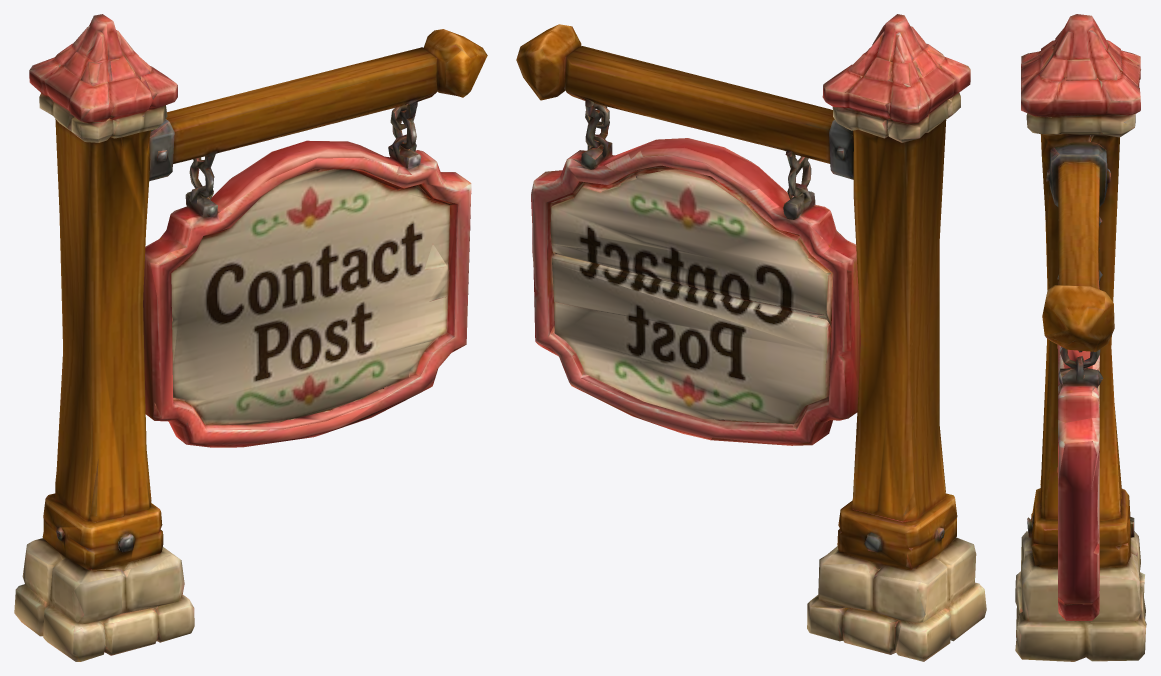
The model's file is sign-contact.glb.
3 renders of one model, left to right at view 1: azimuth 30°, elevation 25°; view 2: azimuth 150°, elevation 25°; view 3: azimuth 270°, elevation 25°, orthographic.
Visible parts, largest first — view 1: Mesh1.0; view 2: Mesh1.0; view 3: Mesh1.0.
Part boxes in pixels (bbox=[...]): Mesh1.0: bbox=[14, 14, 487, 661]; Mesh1.0: bbox=[516, 14, 986, 661]; Mesh1.0: bbox=[1015, 14, 1146, 661].
Bounding box in the file's own units: 1.43 × 1.9 × 0.3666.
1 material, 1 textured.
